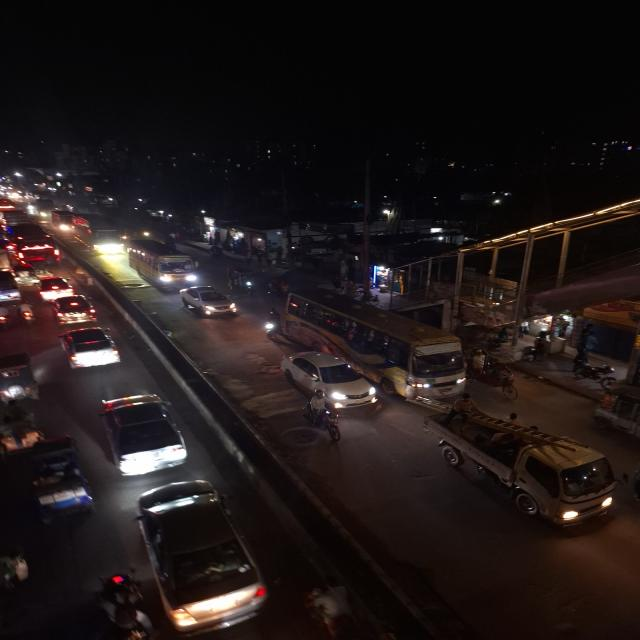bus: (289, 294, 469, 396), (124, 237, 203, 288), (12, 227, 58, 270), (80, 217, 122, 252)
car: (132, 478, 270, 636), (96, 390, 193, 478), (278, 346, 378, 411), (58, 324, 128, 374), (174, 283, 242, 321), (48, 294, 104, 327)
motorcycle: (93, 572, 151, 640), (300, 390, 344, 444), (259, 308, 285, 344)
pickup_van: (418, 404, 626, 542)
rickshaw: (16, 440, 101, 530)
